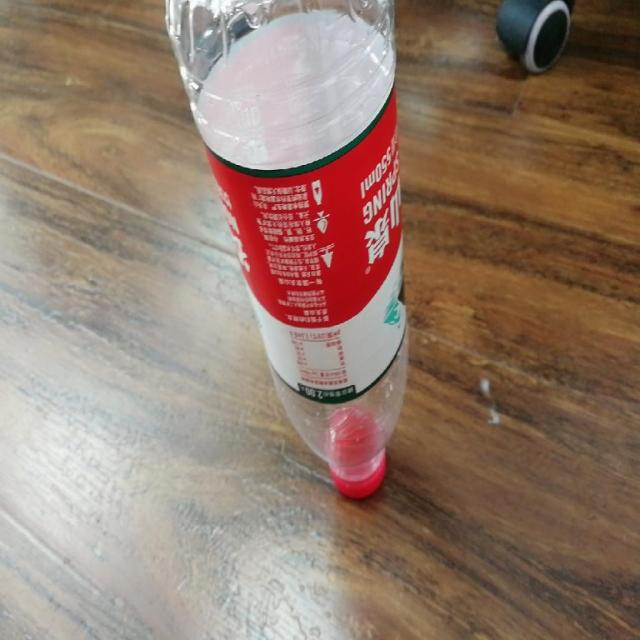-Recyclables - plastic bottle-: (166, 4, 411, 500)
